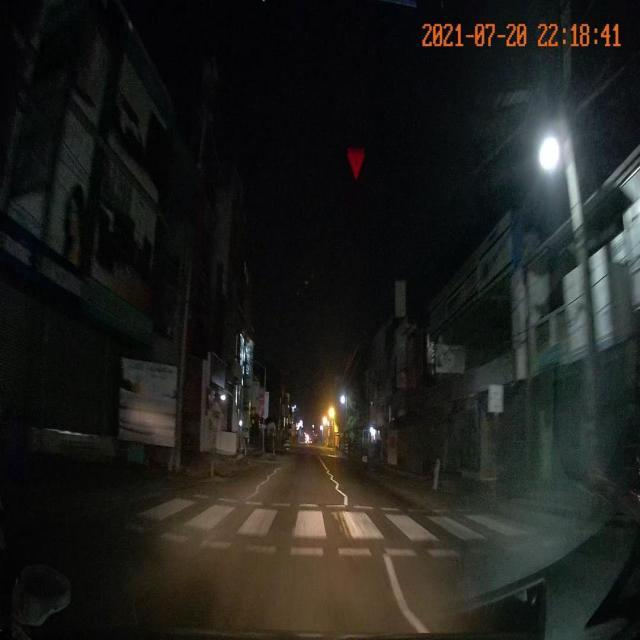Crosswalk: (116, 485, 571, 560)
